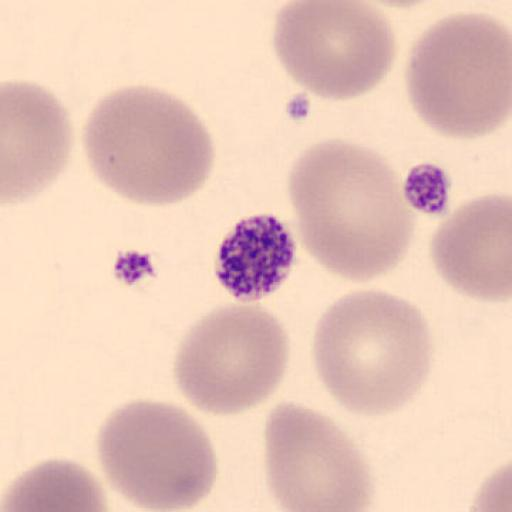Platelet: (209, 211, 300, 304), (400, 158, 455, 219)
RBC: (287, 137, 416, 282), (81, 81, 216, 208), (310, 286, 434, 418), (402, 9, 512, 142), (94, 398, 219, 512), (171, 302, 291, 416), (262, 398, 377, 512), (272, 0, 398, 102), (2, 78, 75, 208), (429, 191, 512, 302), (0, 455, 110, 512), (469, 457, 512, 512), (349, 0, 456, 11)
